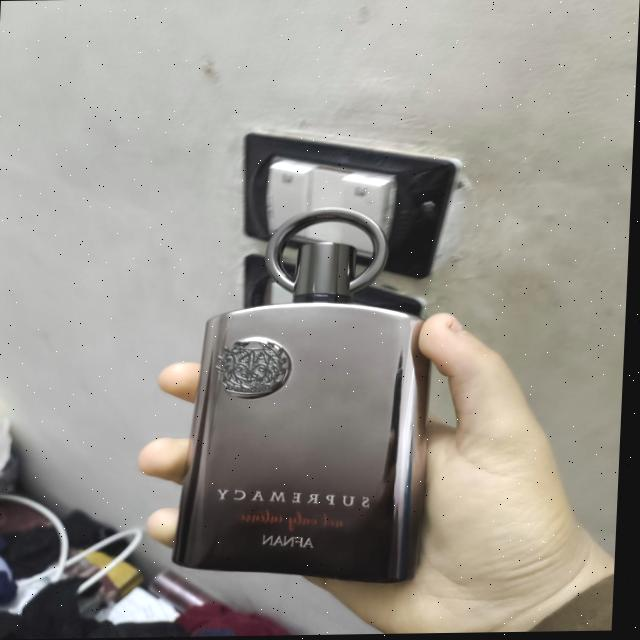Afnan: (174, 204, 443, 586), (150, 566, 301, 636)
